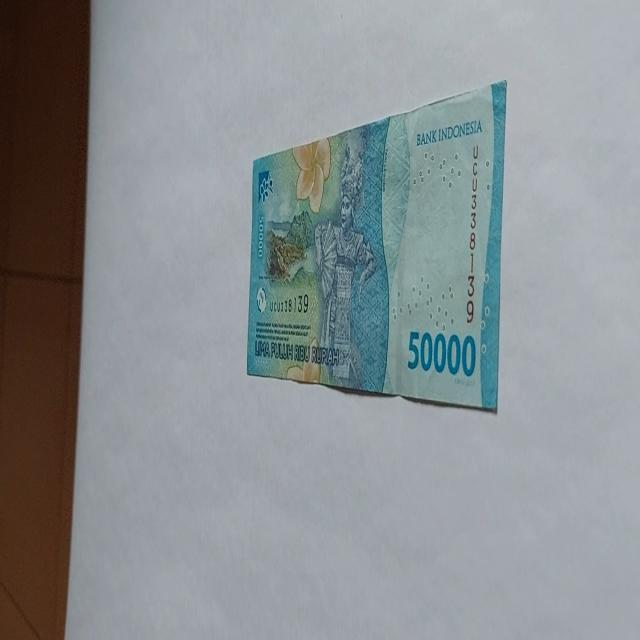lima puluh ribu rupiah: (245, 79, 507, 414), (414, 117, 483, 147)
